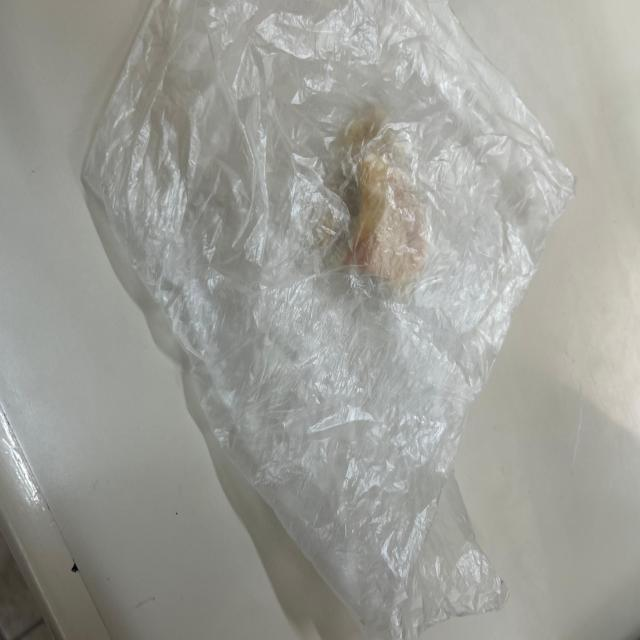inorganic: (83, 0, 577, 639)
